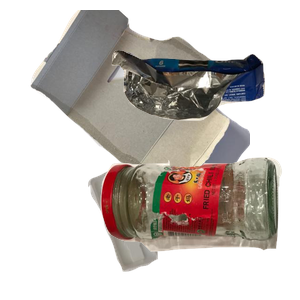glass: (98, 155, 300, 300)
paper: (28, 10, 268, 190)
plastic: (85, 163, 235, 300)
trash: (109, 47, 300, 160)
